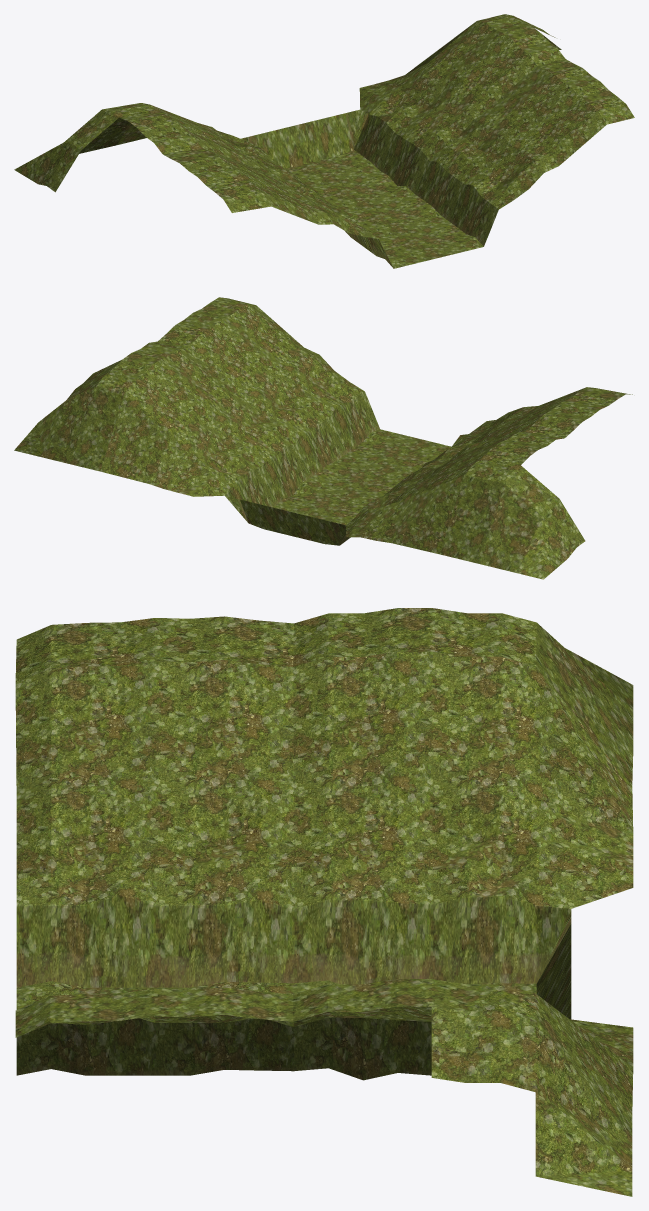
File: WaterLandscapeStart.glb
3 renders of one model, top to bottom at view 1: azimuth 30°, elevation 25°; view 2: azimuth 150°, elevation 25°; view 3: azimuth 270°, elevation 25°, orthographic. The views are drawn at different scales.
Visible parts, largest first — view 1: Plane.002; view 2: Plane.002; view 3: Plane.002.
Part boxes in pixels (x1,y1,x2,y2): Plane.002: (14,14,634,268); Plane.002: (14,297,632,579); Plane.002: (15,608,633,1196).
Bounding box in the file's own units: 32.58 × 6.73 × 16.64.
1 material, 1 textured.
